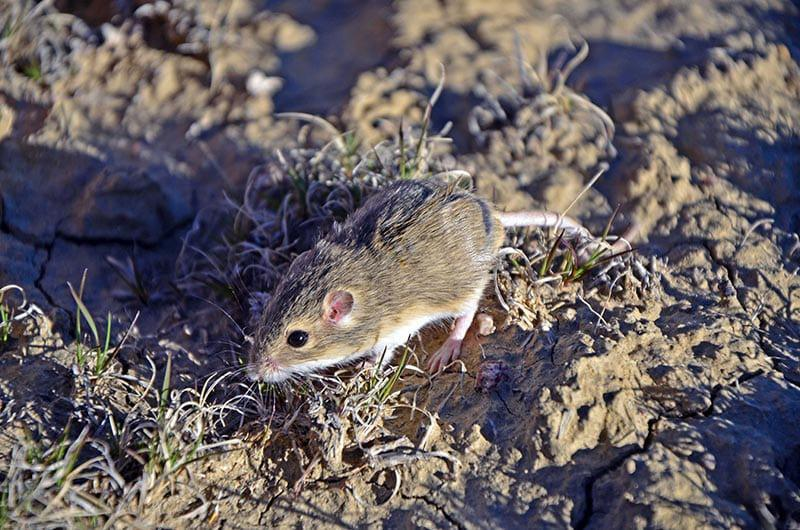rat: (250, 180, 617, 378)
